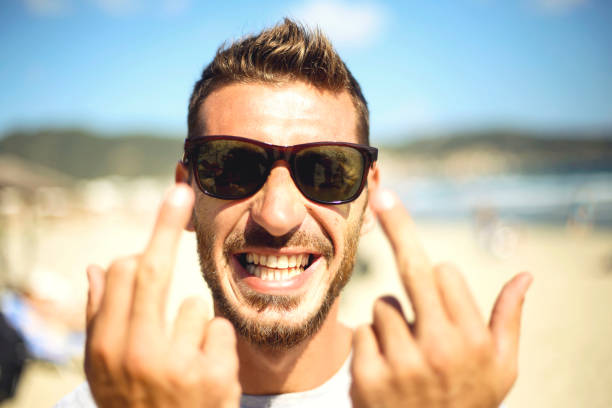insulting_gesture: (346, 178, 537, 408), (75, 182, 243, 408)
